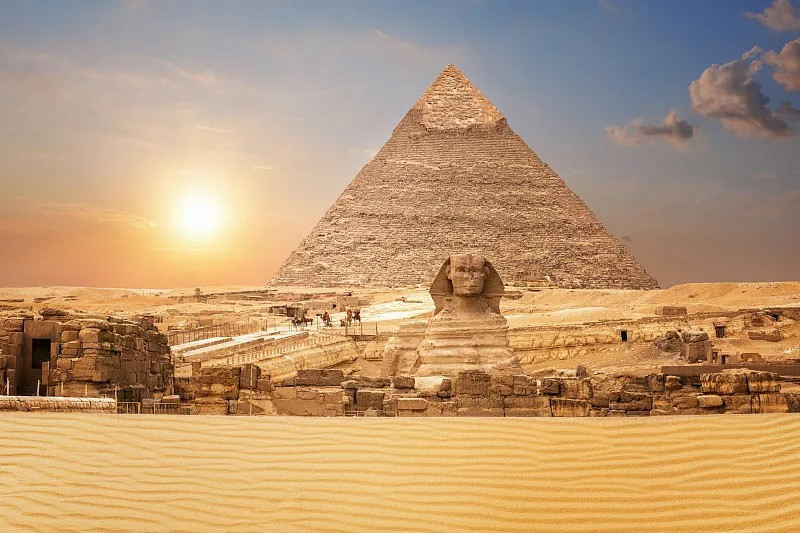Pyramid: (265, 62, 662, 292)
